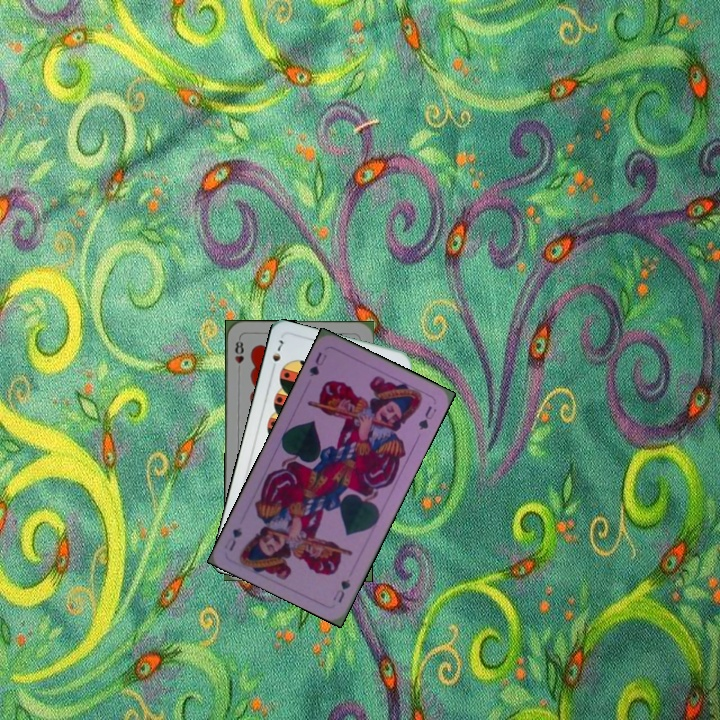GU: (305, 348, 329, 379), (329, 575, 353, 605)
H8: (231, 335, 246, 376)
S7: (268, 336, 286, 374)
